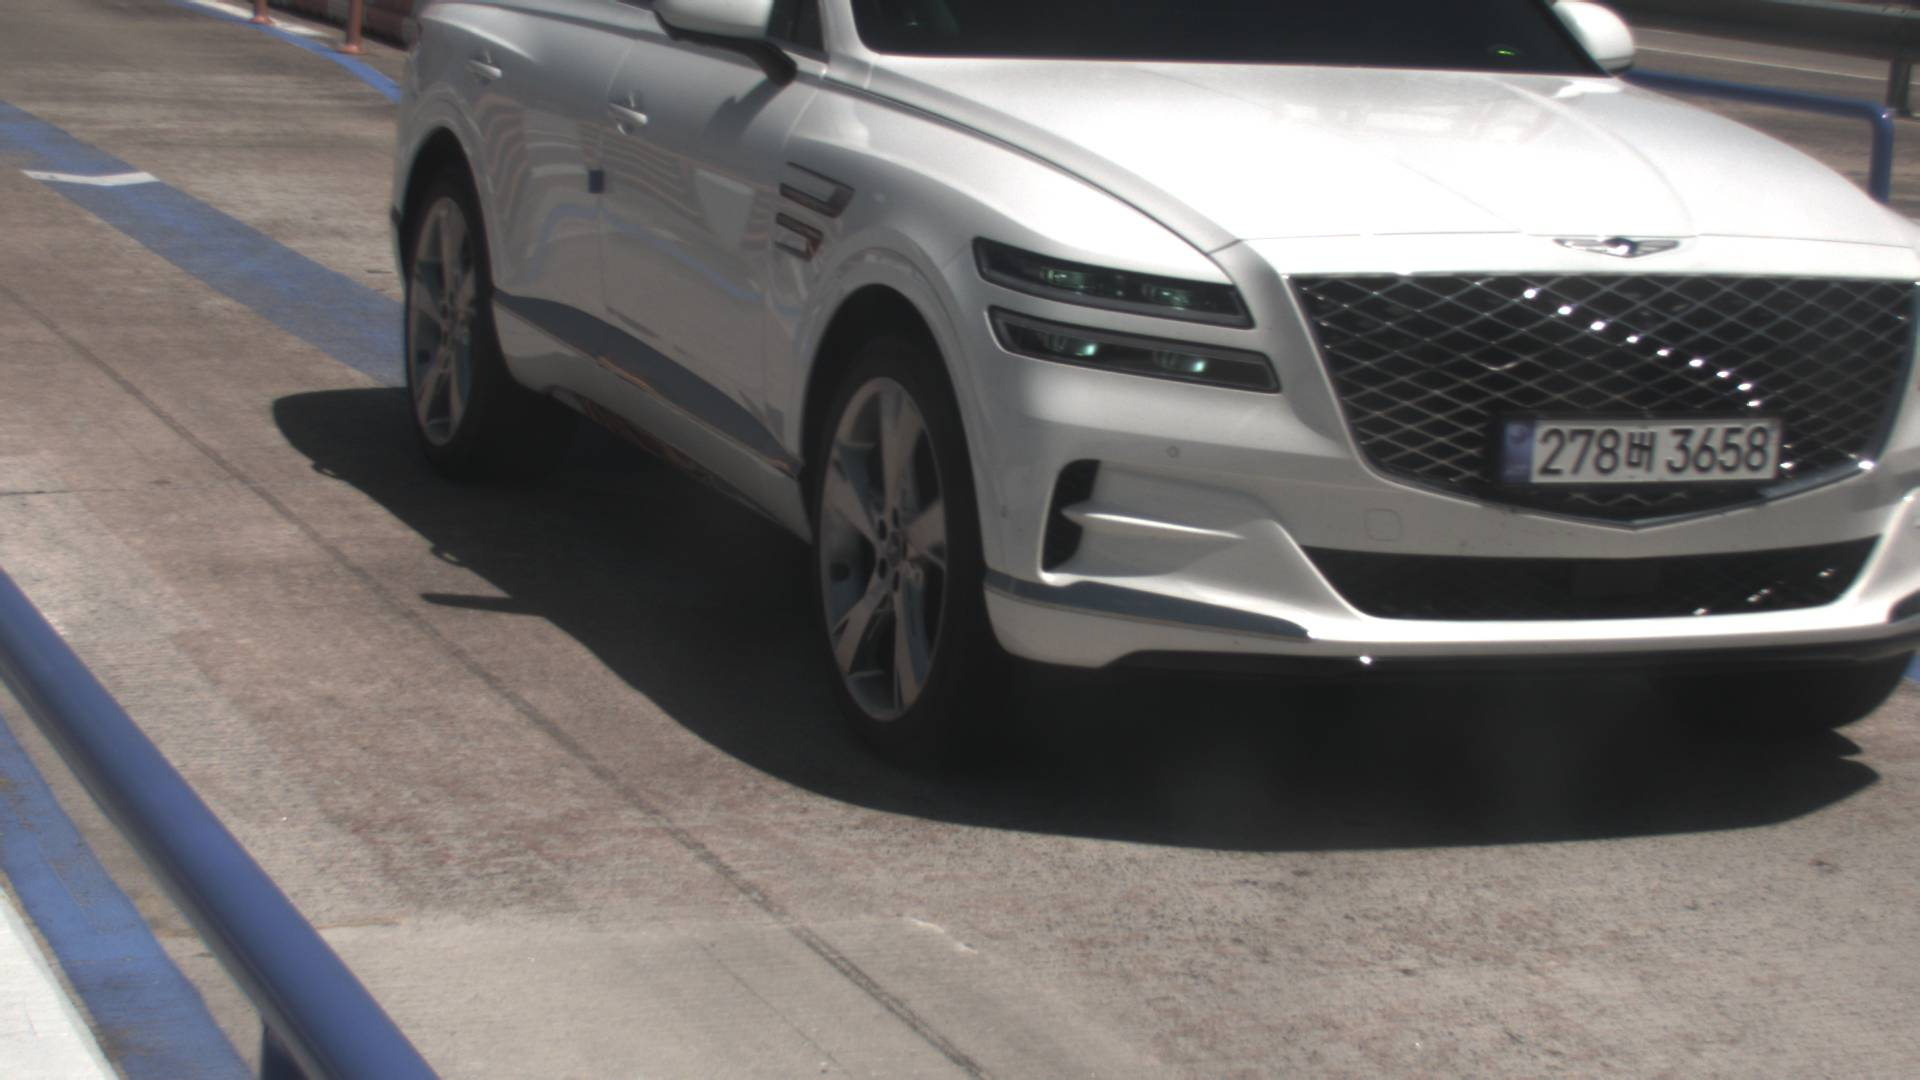car: (385, 1, 1920, 775)
plate: (1489, 411, 1789, 491)
